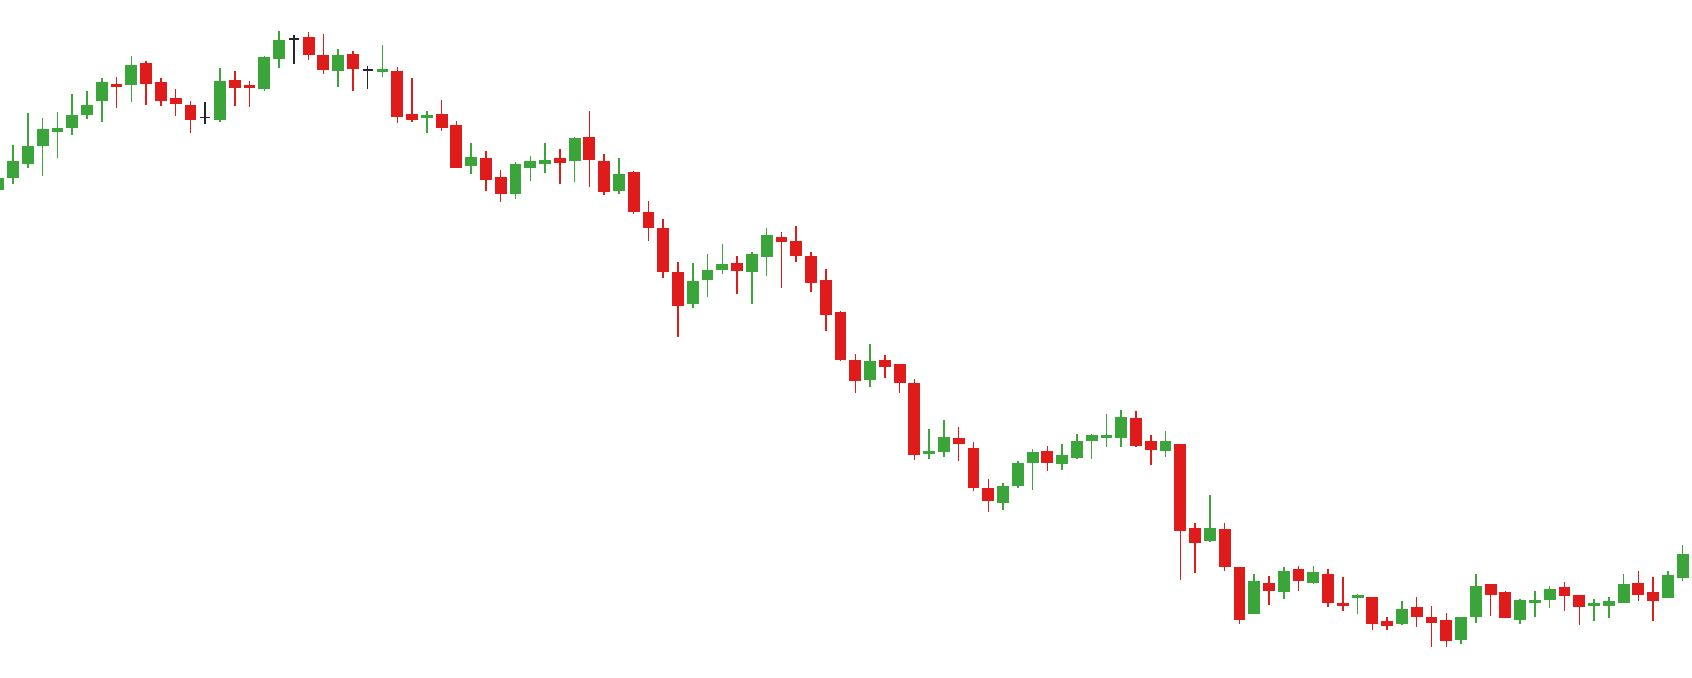sell: (122, 30, 316, 89)
